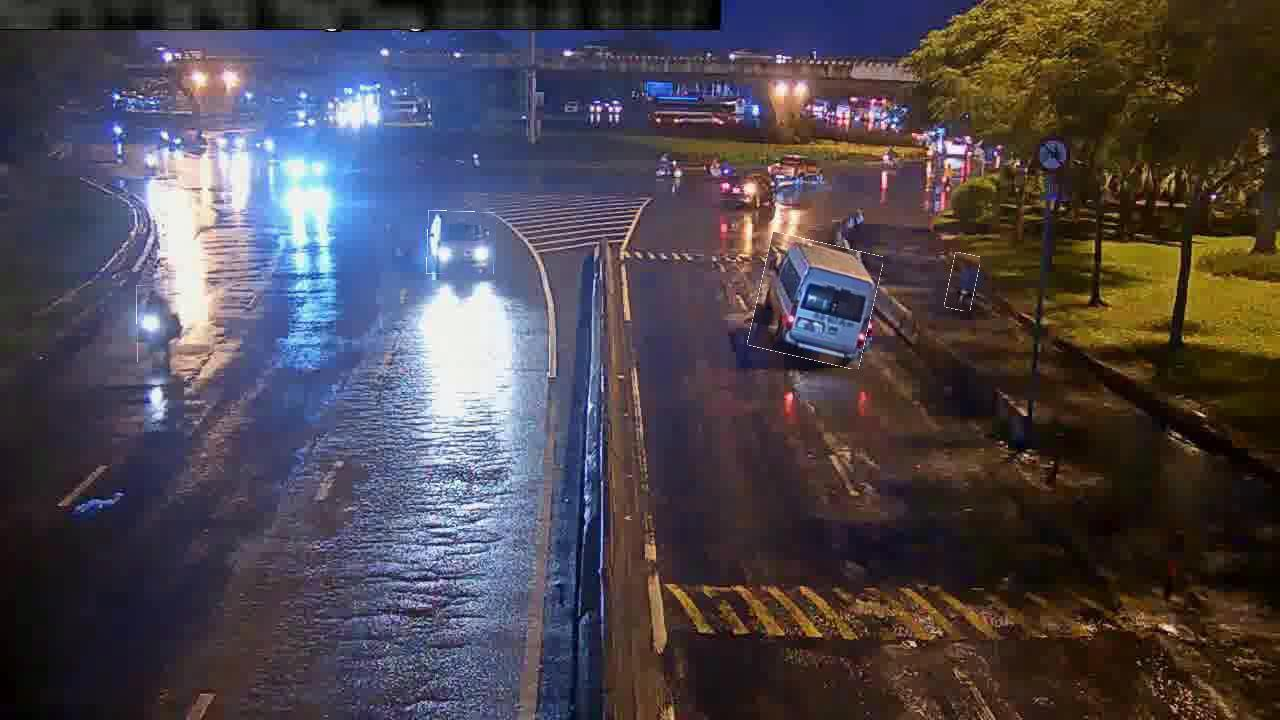car: (427, 211, 495, 275)
motorbike: (137, 285, 180, 363), (947, 253, 979, 311)
passenger_car: (753, 238, 879, 365)
